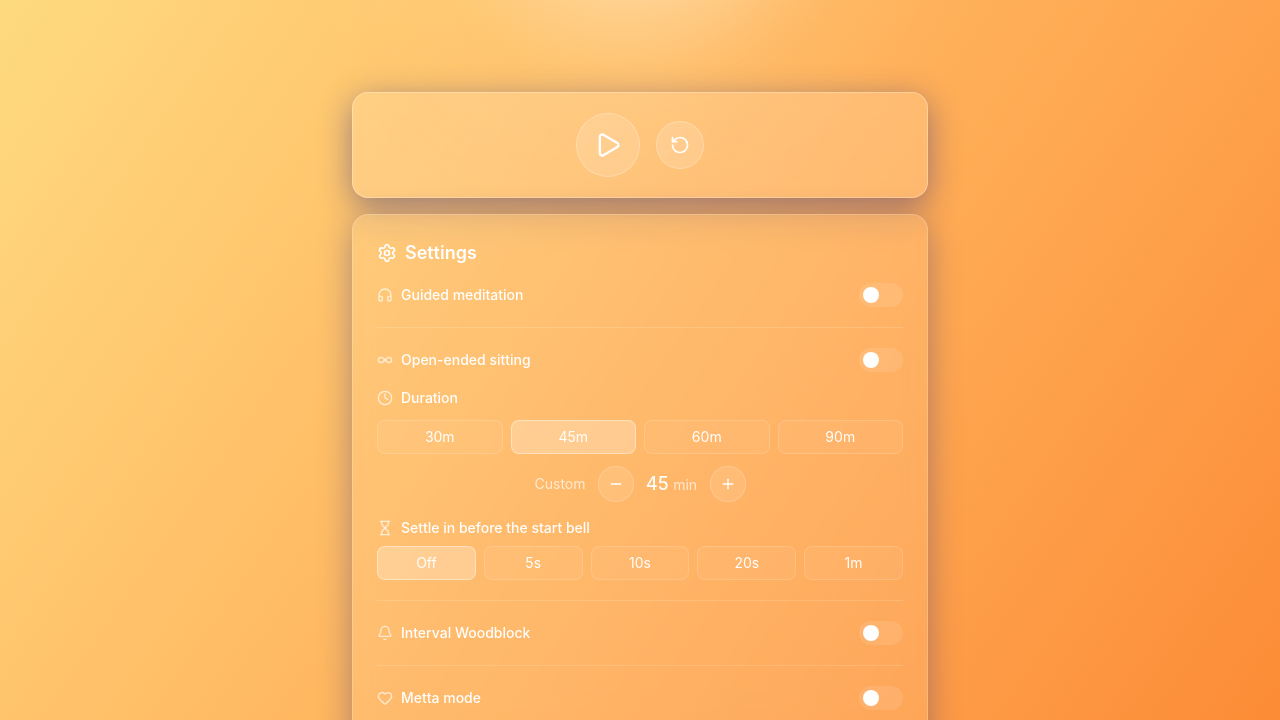
Scenario: App › open-ended sitting › hides the duration settings and starts from 00:00
The image size is (1280, 720).
(page scrolled)
Expected: the button named "Start" is enabled, [576,113,640,177]
Click the switch named "Open-ended sitting": (881, 360) [859,348,903,372]
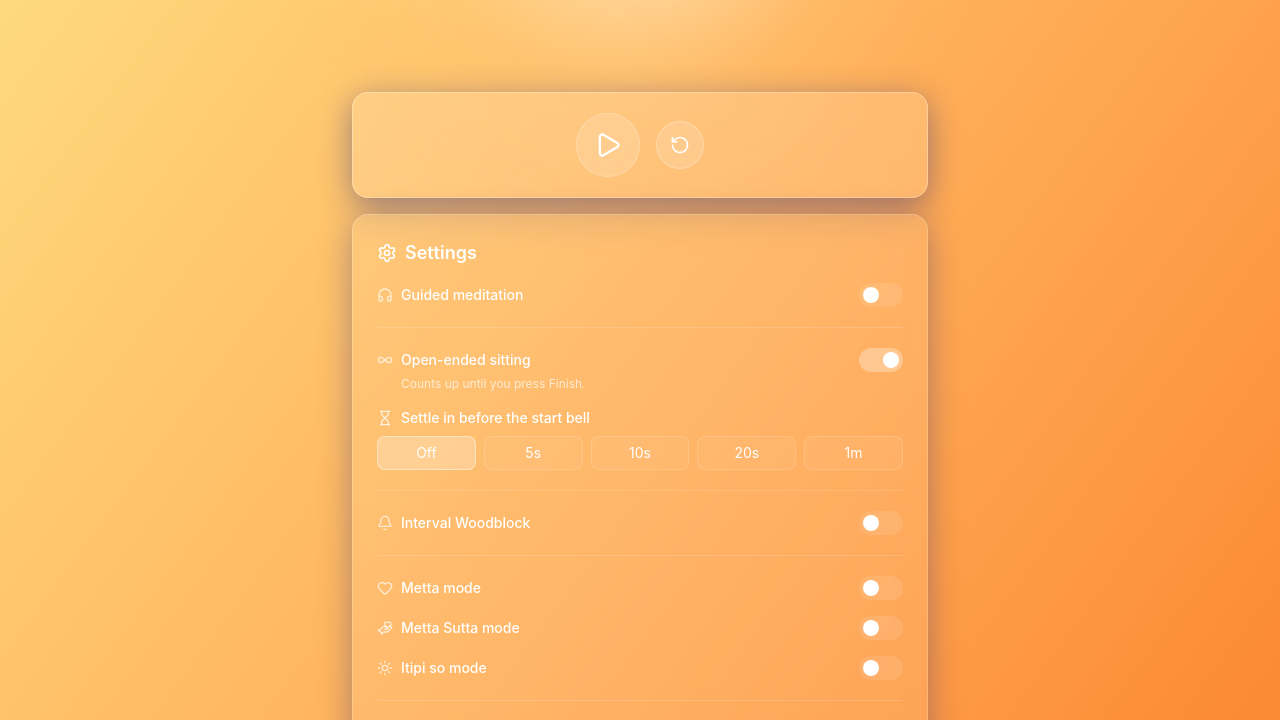
Expected: the button "45m" is gone
Expected: the text "Counts up until you press Finish." is shown, [401,376,586,391]
